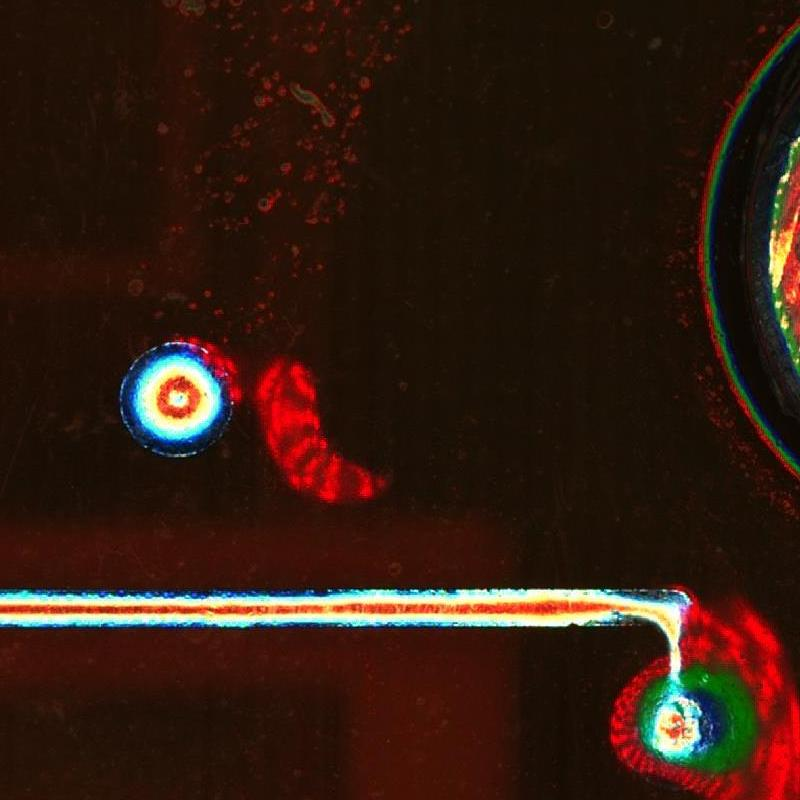bad: (101, 321, 249, 484)
